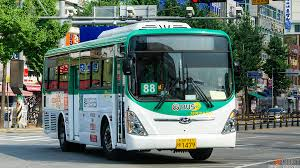bnum: (141, 83, 156, 93)
